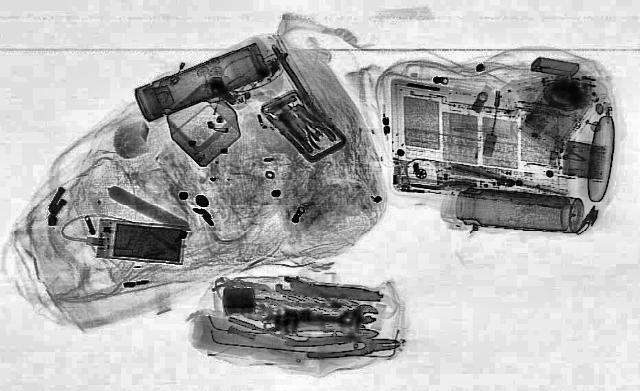Pliers: (283, 332, 401, 360), (283, 110, 343, 150)
Wrench: (314, 302, 378, 326)
